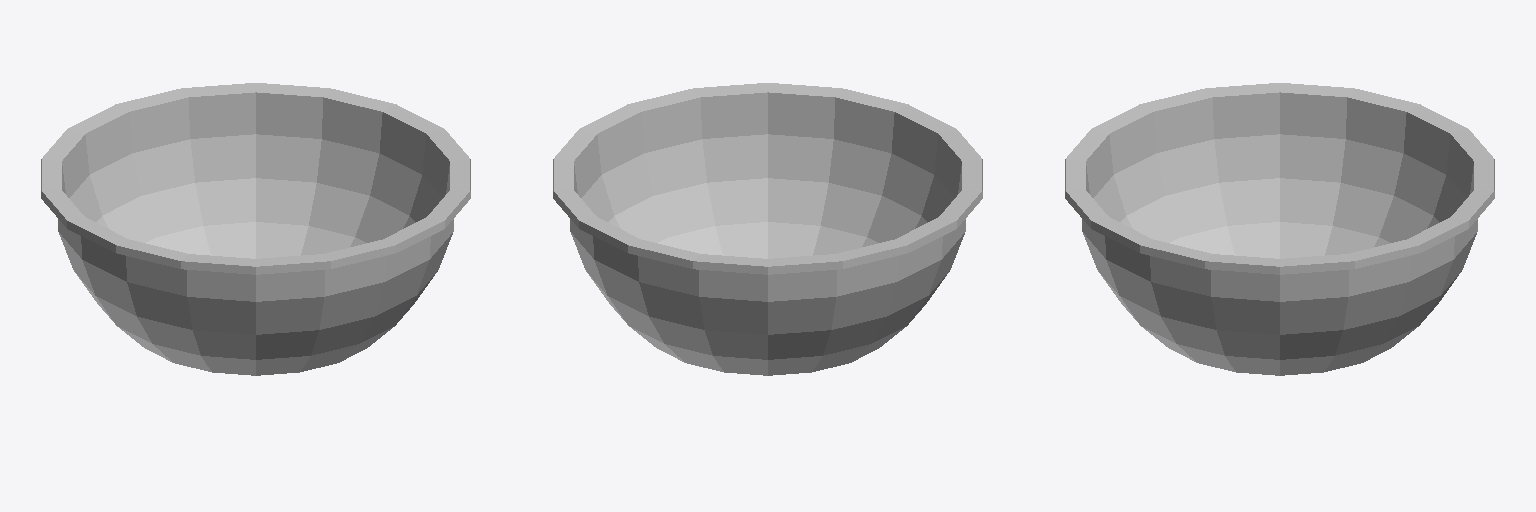
File: MixingBowl.obj
The picture shows the model from 3 angles: view 1: azimuth 30°, elevation 25°; view 2: azimuth 150°, elevation 25°; view 3: azimuth 270°, elevation 25°; orthographic projection.
Visible parts, largest first — view 1: pSphere54; view 2: pSphere54; view 3: pSphere54.
Part boxes in pixels (x1,y1,x2,y2): pSphere54: (41, 83, 470, 375); pSphere54: (553, 83, 982, 375); pSphere54: (1065, 83, 1494, 375).
Bounding box in the file's own units: 4.5 × 1.85 × 4.44.